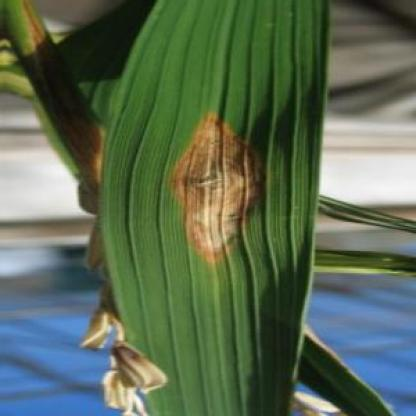Rice blast: (163, 113, 270, 274)
